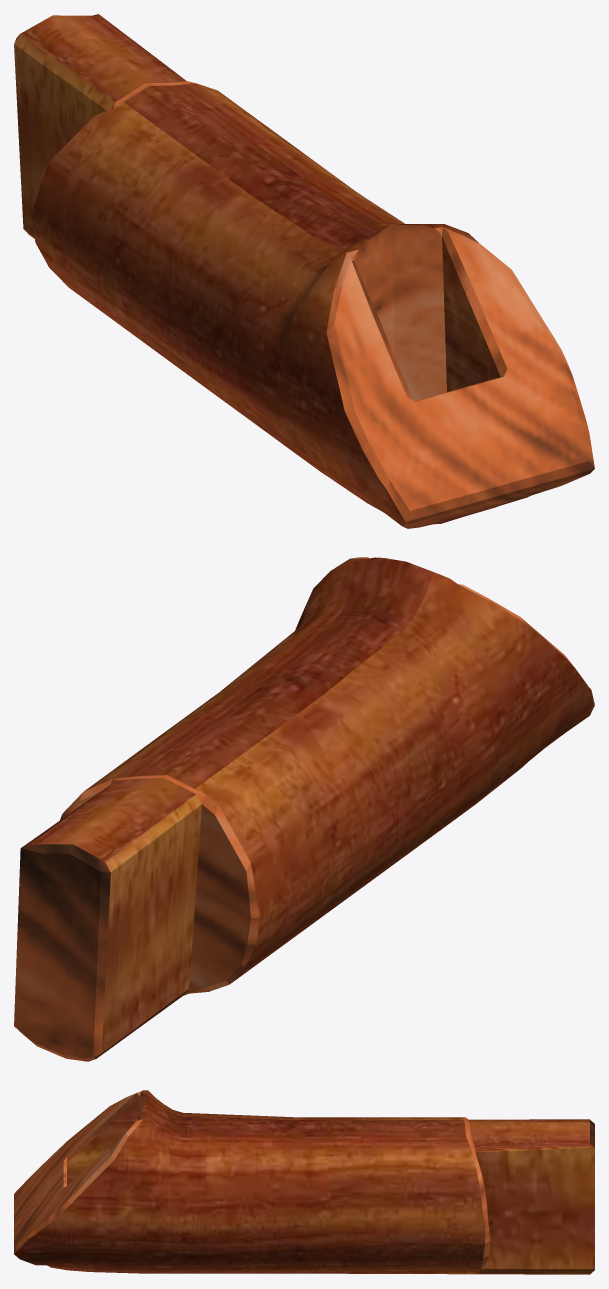
The model's file is ytsy_J_henggan_017.FBX.
3 views of the same model, one above another, from view 1: azimuth 30°, elevation 25°; view 2: azimuth 150°, elevation 25°; view 3: azimuth 270°, elevation 25° (orthographic). The views are drawn at different scales.
Parts seen in each view (by area): view 1: ytsy_J_henggan_017; view 2: ytsy_J_henggan_017; view 3: ytsy_J_henggan_017.
Part boxes in pixels (left/top/right/bottom): ytsy_J_henggan_017: left=14, top=14, right=594, bottom=528; ytsy_J_henggan_017: left=14, top=557, right=594, bottom=1061; ytsy_J_henggan_017: left=14, top=1090, right=594, bottom=1274.
Bounding box in the file's own units: 2.03 × 2.29 × 7.11.
